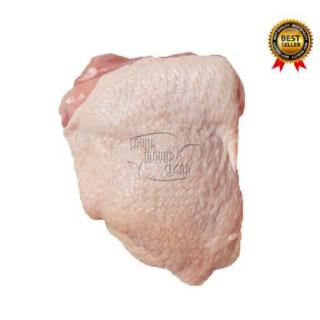Ayam: (61, 55, 247, 286)
